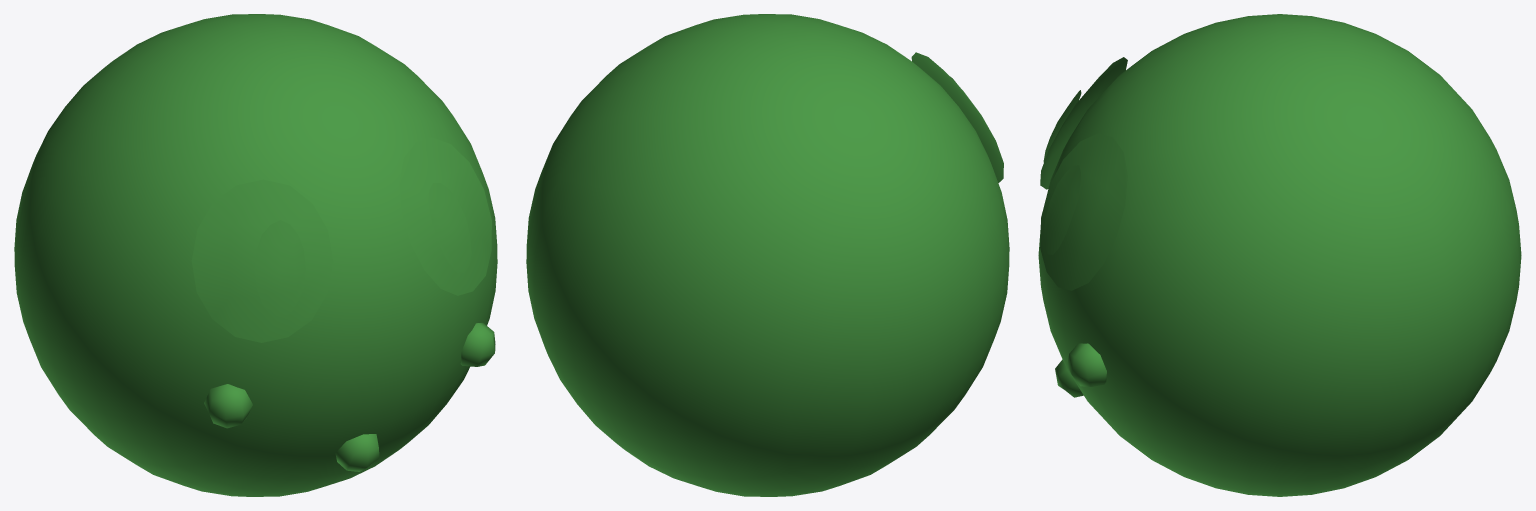
The model's file is bobLeBlob_SK.fbx.
3 views of the same model, side by side, from view 1: azimuth 30°, elevation 25°; view 2: azimuth 150°, elevation 25°; view 3: azimuth 270°, elevation 25° (orthographic).
Visible parts, largest first — view 1: bob; view 2: bob; view 3: bob.
Boxes of the visible parts, x1=… form: bob: x1=14, y1=14, x2=497, y2=496; bob: x1=526, y1=14, x2=1009, y2=496; bob: x1=1038, y1=14, x2=1521, y2=496.
Size of the model in its own units: 200 by 200 by 200.
